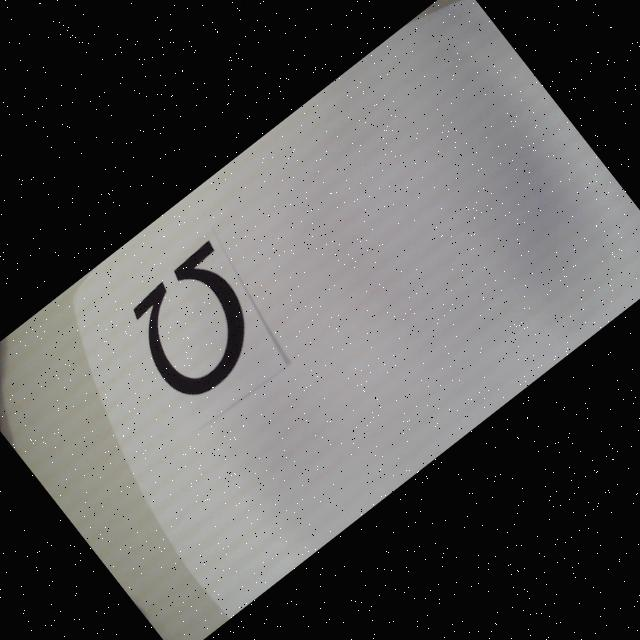OMEGA: (113, 238, 284, 409)
